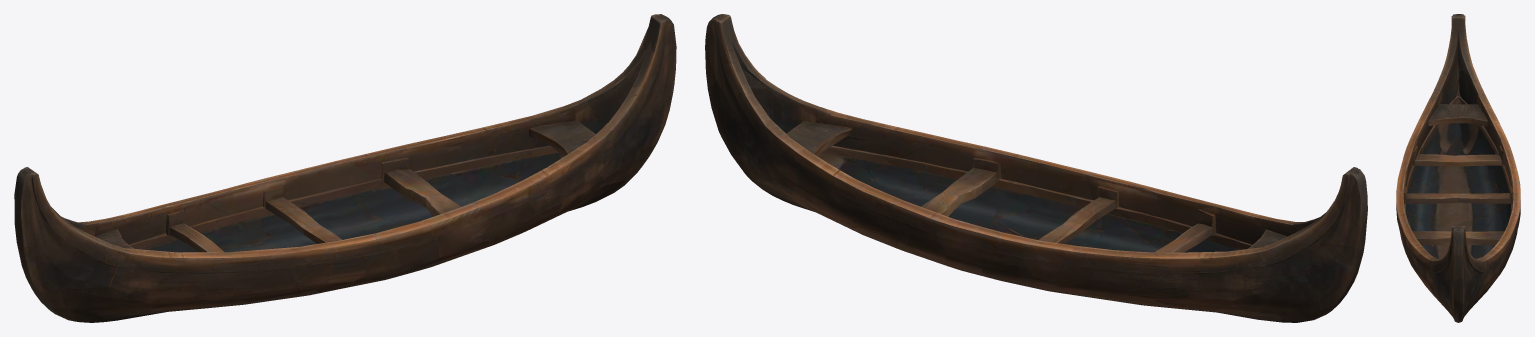
Rendered from Dugout_Canoe.glb.
3 renders of one model, left to right at view 1: azimuth 30°, elevation 25°; view 2: azimuth 150°, elevation 25°; view 3: azimuth 270°, elevation 25°, orthographic. The views are drawn at different scales.
Size of the model in its own units: 1.9 by 0.4907 by 0.4554.
Materials: 1 (1 with a texture image).
